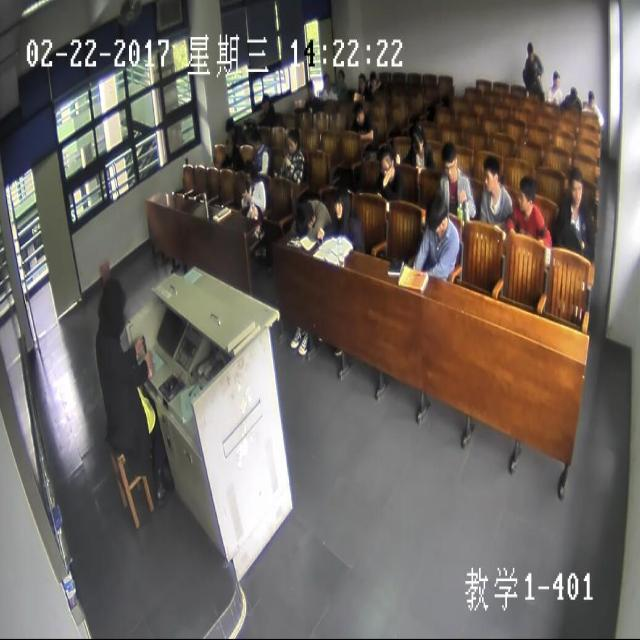person: (98, 277, 128, 335), (427, 196, 450, 240), (481, 154, 499, 195), (518, 173, 534, 214), (441, 142, 456, 182), (379, 147, 394, 184), (296, 201, 314, 231), (568, 169, 582, 206), (410, 128, 426, 158), (334, 191, 348, 222), (286, 129, 300, 156), (243, 162, 256, 184), (223, 136, 234, 158), (260, 93, 271, 113), (526, 39, 536, 59), (322, 70, 331, 92), (368, 69, 379, 87), (250, 132, 260, 151), (354, 104, 364, 123), (334, 68, 345, 84), (587, 87, 595, 108), (225, 117, 236, 132), (570, 84, 579, 102), (357, 71, 365, 90), (552, 67, 560, 86), (306, 80, 314, 98)
